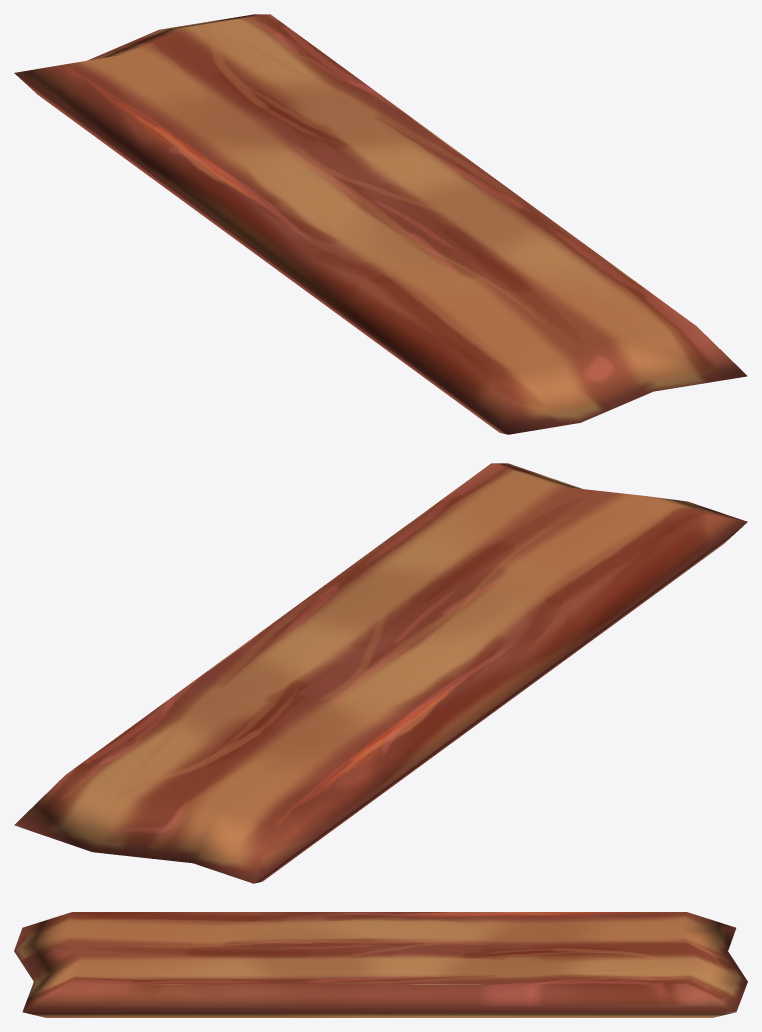
File: Tocino.fbx
3 renders of one model, top to bottom at view 1: azimuth 30°, elevation 25°; view 2: azimuth 150°, elevation 25°; view 3: azimuth 270°, elevation 25°, orthographic. The views are drawn at different scales.
Visible parts, largest first — view 1: Cube; view 2: Cube; view 3: Cube.
Part boxes in pixels (x1,y1,x2,y2): Cube: (14, 14, 747, 434); Cube: (14, 463, 747, 883); Cube: (14, 912, 747, 1017).
Bounding box in the file's own units: 200 × 32.91 × 735.
1 material, 1 textured.
